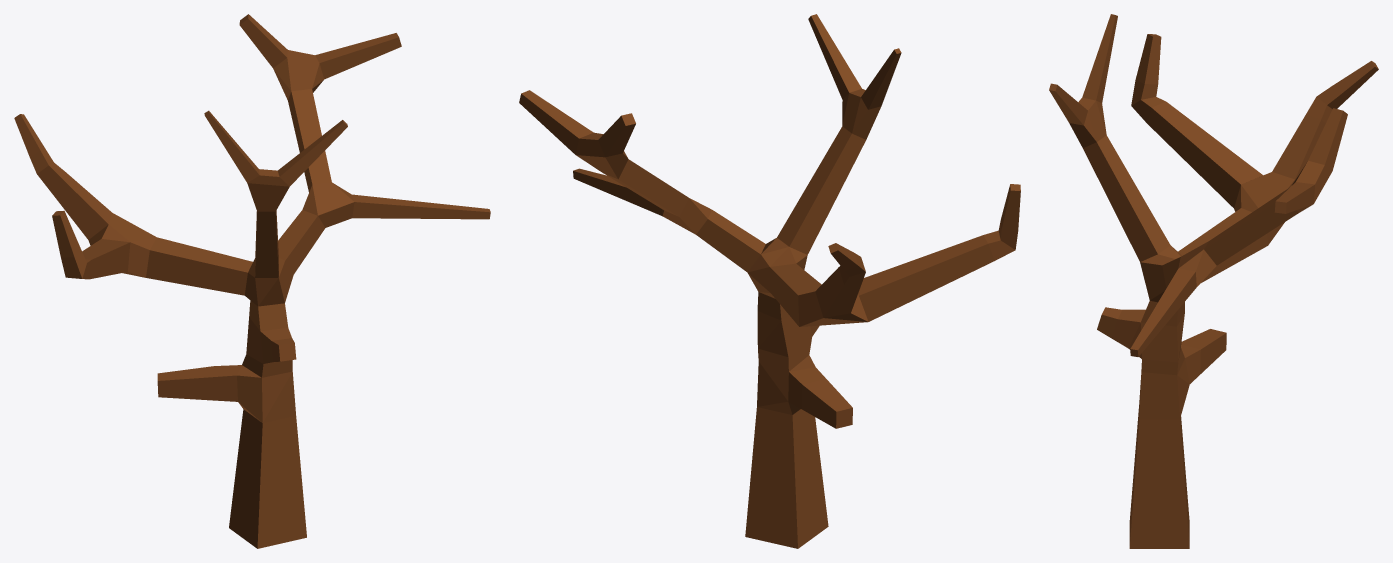
3 views of the same model, side by side, from view 1: azimuth 30°, elevation 25°; view 2: azimuth 150°, elevation 25°; view 3: azimuth 270°, elevation 25° (orthographic). The views are drawn at different scales.
Visible parts, largest first — view 1: 큐브.004; view 2: 큐브.004; view 3: 큐브.004.
Boxes of the visible parts, left/top/right/bottom form: 큐브.004: left=14, top=14, right=490, bottom=548; 큐브.004: left=519, top=14, right=1020, bottom=548; 큐브.004: left=1049, top=14, right=1378, bottom=548.
Size of the model in its own units: 2413 by 2459 by 1531.
